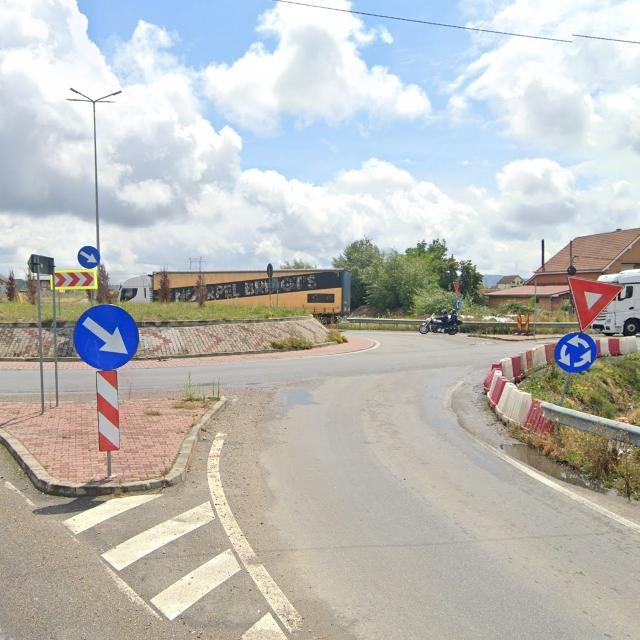prio_give_way: (566, 276, 624, 332)
